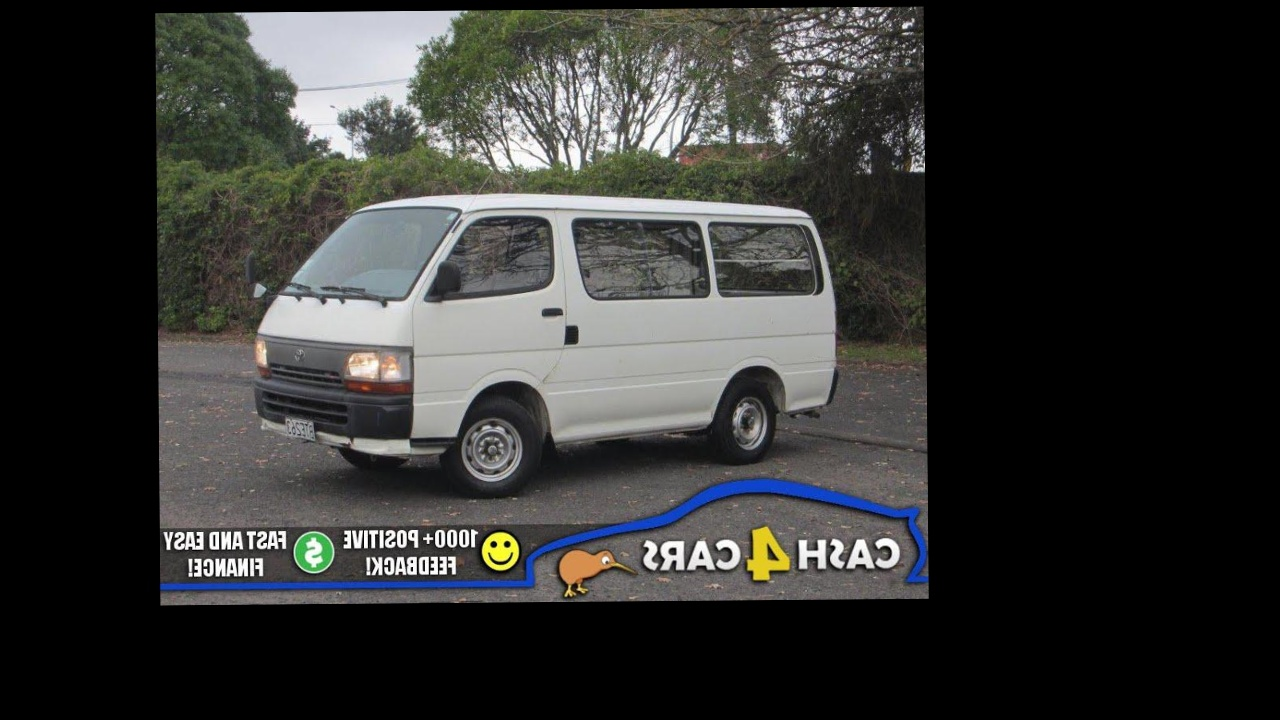van: (250, 192, 840, 473)
